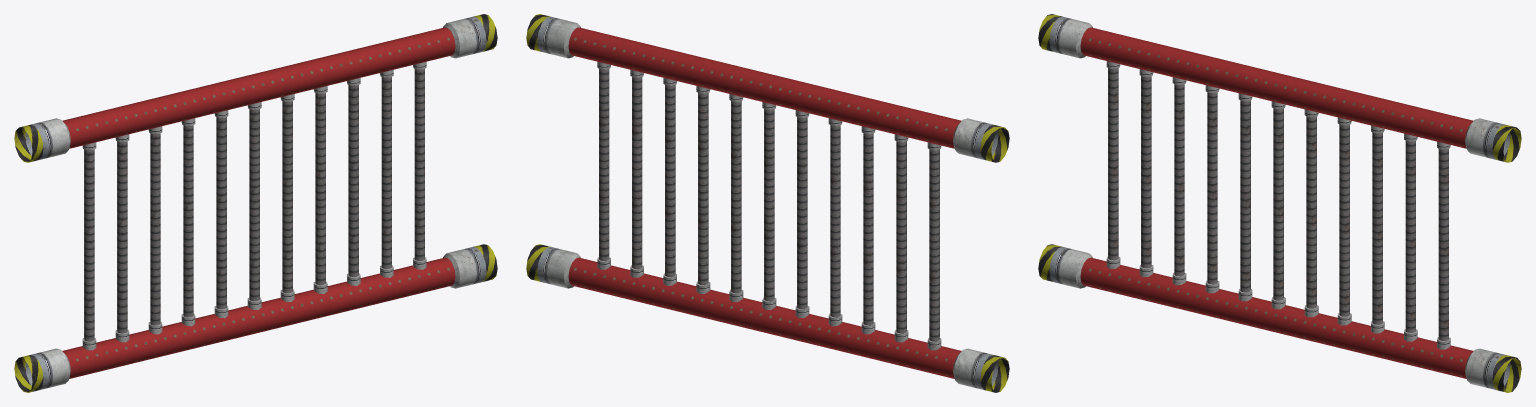
File: Ob_RedBars_RC.fbx
3 views of the same model, side by side, from view 1: azimuth 30°, elevation 25°; view 2: azimuth 150°, elevation 25°; view 3: azimuth 330°, elevation 25° (orthographic).
Visible parts, largest first — view 1: Ob_RedBars_RC; view 2: Ob_RedBars_RC; view 3: Ob_RedBars_RC.
Boxes of the visible parts, left/top/right/bottom form: Ob_RedBars_RC: left=14, top=14, right=497, bottom=392; Ob_RedBars_RC: left=526, top=14, right=1009, bottom=392; Ob_RedBars_RC: left=1038, top=14, right=1521, bottom=392.
Bounding box in the file's own units: 2111 × 1142 × 143.
